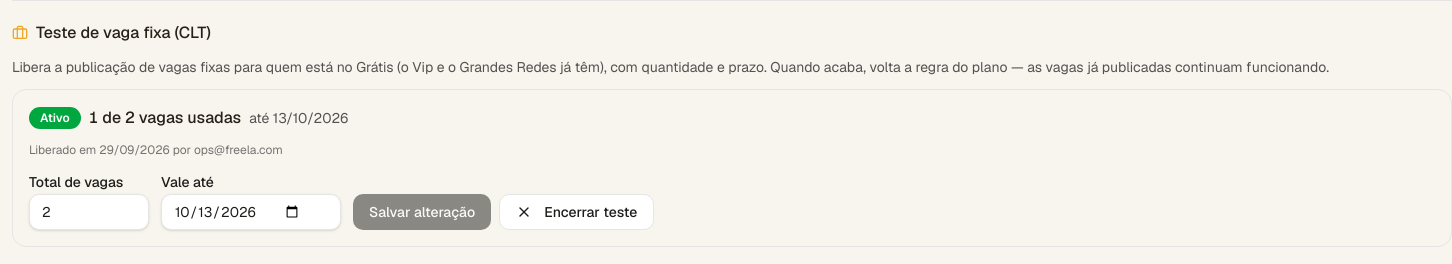
FixedJobTrialSection — teste vencido precisa de data nova › teste ativo não mostra o aviso e salva só o total
Replace the text in the number field labelled "Total de vagas" with "3" at (89, 212), box [29,194,149,230]
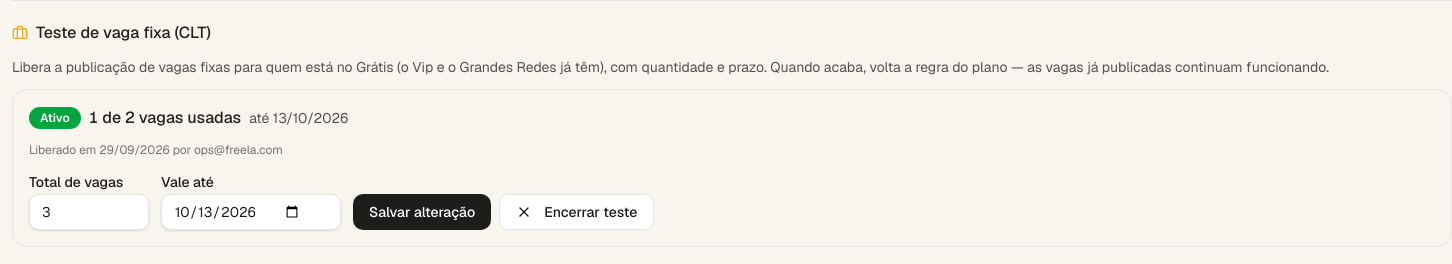
Expected: the button "Salvar alteração" is enabled, [353,194,491,230]
